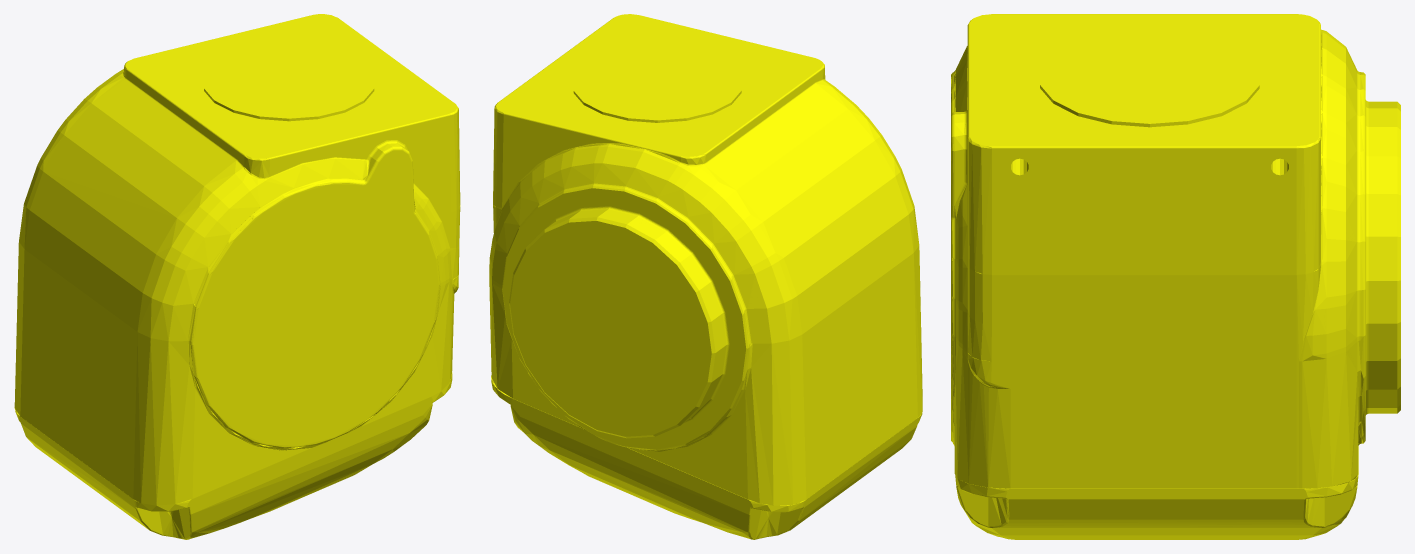
The picture shows the model from 3 angles, left to right: view 1: azimuth 30°, elevation 25°; view 2: azimuth 150°, elevation 25°; view 3: azimuth 270°, elevation 25°; orthographic projection. The views are drawn at different scales.
Parts seen in each view (by area): view 1: node; view 2: node; view 3: node.
Part boxes in pixels (x1,y1,x2,y2): node: (14, 14, 460, 539); node: (489, 14, 922, 539); node: (951, 14, 1400, 539).
Size of the model in its own units: 127 by 143 by 121.
